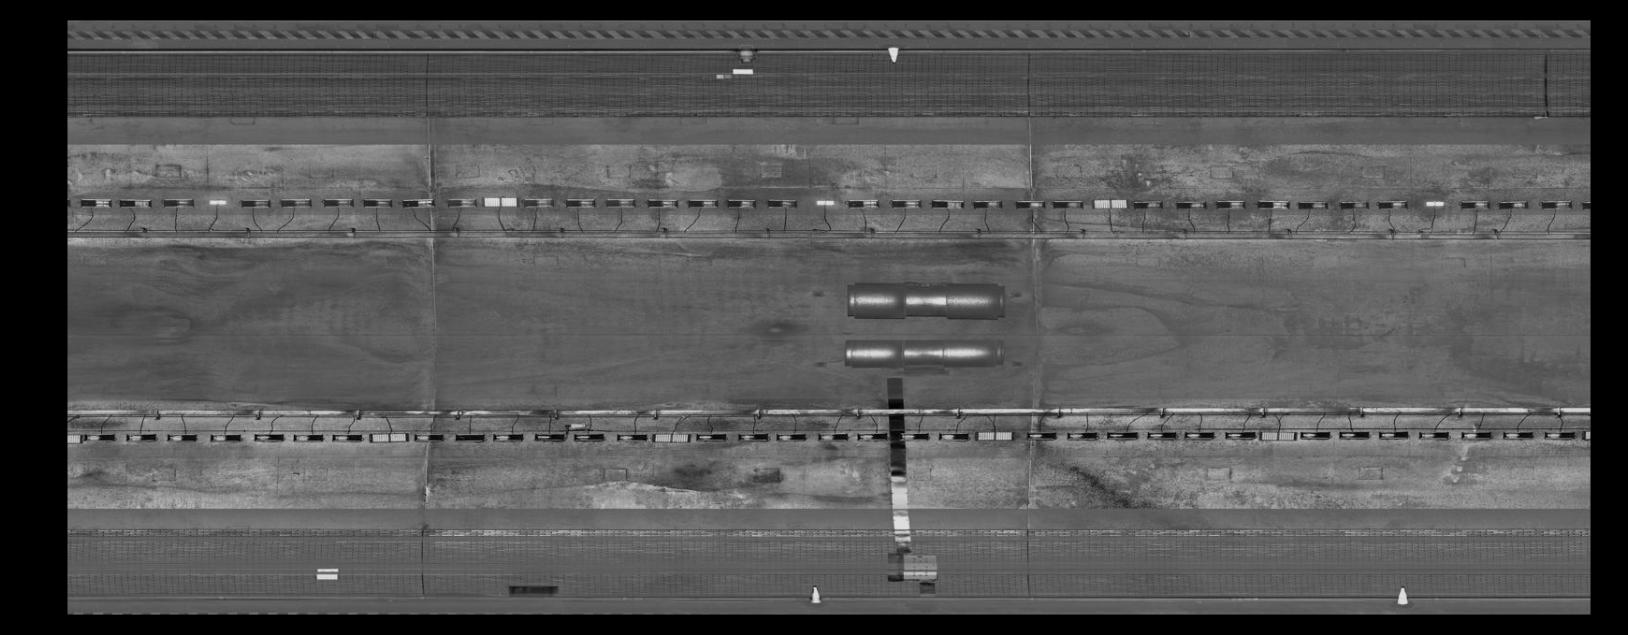light: (974, 429, 1017, 443), (367, 431, 410, 445), (1256, 429, 1298, 443), (651, 431, 693, 445), (520, 194, 558, 210), (1254, 198, 1293, 213), (1090, 197, 1129, 212), (1050, 197, 1087, 212), (643, 196, 682, 210), (480, 195, 519, 209), (399, 196, 437, 210), (1541, 427, 1579, 441), (1214, 197, 1249, 212), (278, 195, 314, 210), (736, 430, 771, 444), (695, 429, 730, 443), (532, 430, 567, 444), (451, 431, 488, 444), (410, 430, 447, 443), (115, 197, 155, 210), (206, 432, 245, 444), (161, 432, 200, 444), (1294, 199, 1330, 213), (563, 196, 599, 210), (1297, 427, 1333, 441), (928, 198, 967, 211), (76, 197, 114, 210), (289, 432, 327, 444), (250, 431, 289, 443), (121, 431, 160, 443), (1539, 197, 1574, 211), (1457, 198, 1492, 212), (970, 197, 1005, 211), (602, 196, 637, 210), (320, 196, 355, 210), (897, 430, 932, 443), (854, 431, 890, 444), (888, 197, 925, 210), (1173, 198, 1208, 212), (1012, 197, 1047, 211), (684, 197, 721, 210), (1374, 429, 1410, 441), (1022, 430, 1058, 442), (614, 432, 650, 444), (572, 432, 608, 444), (1130, 199, 1165, 212), (443, 196, 479, 209), (238, 197, 273, 210), (1416, 429, 1451, 441), (1336, 429, 1372, 441), (1181, 429, 1216, 441), (815, 431, 850, 443), (774, 431, 809, 443), (159, 197, 197, 209), (1457, 430, 1495, 441), (1374, 199, 1411, 211), (1337, 199, 1372, 212), (724, 198, 758, 211), (1500, 430, 1538, 441), (1104, 430, 1141, 441), (1064, 430, 1102, 441), (937, 431, 971, 443), (330, 433, 364, 445), (845, 197, 881, 209), (1223, 430, 1259, 441), (490, 432, 526, 443), (82, 432, 118, 443), (361, 196, 395, 209), (1496, 199, 1531, 211), (763, 198, 799, 209), (1146, 430, 1178, 440), (1422, 198, 1449, 209), (203, 198, 230, 208), (813, 198, 836, 208), (67, 433, 82, 444), (1579, 197, 1589, 212), (1581, 426, 1589, 443)
